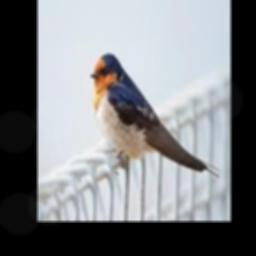Swallow: (90, 53, 220, 177)
